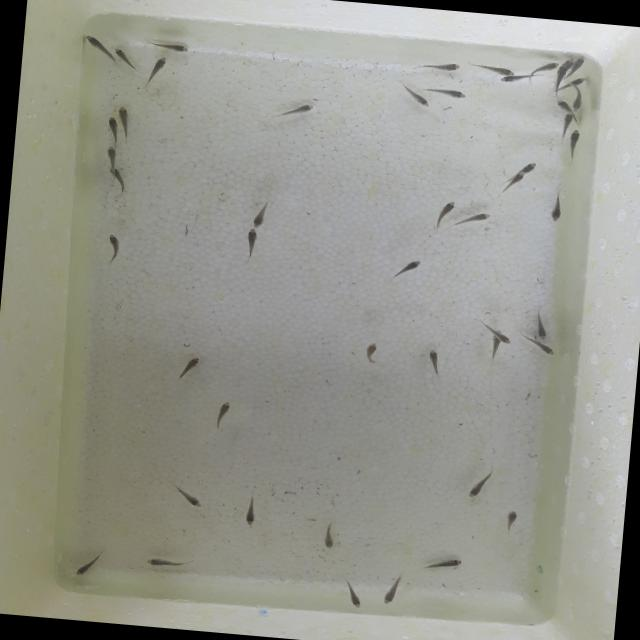fingerling: (80, 32, 114, 56), (430, 84, 472, 102), (418, 58, 461, 74), (110, 46, 138, 70), (475, 62, 517, 78), (404, 88, 434, 110), (392, 259, 422, 281), (565, 126, 584, 158), (146, 558, 189, 572), (466, 475, 491, 499), (504, 168, 529, 192), (76, 556, 106, 576), (456, 210, 491, 227), (105, 232, 124, 262), (529, 339, 559, 358), (426, 556, 461, 572), (174, 489, 202, 509), (180, 352, 202, 377), (152, 40, 192, 53), (346, 587, 367, 611), (516, 157, 542, 176), (147, 54, 167, 78), (501, 72, 535, 86), (108, 166, 130, 187), (422, 346, 443, 368), (438, 200, 458, 223), (116, 106, 131, 136), (280, 103, 312, 117), (215, 398, 232, 424), (532, 61, 557, 78), (486, 331, 514, 346), (552, 64, 567, 92), (104, 116, 121, 140), (382, 580, 398, 604), (254, 202, 270, 226), (245, 496, 258, 524), (560, 112, 574, 138), (489, 331, 506, 352), (323, 524, 337, 548), (244, 228, 258, 252), (536, 319, 550, 342), (364, 344, 380, 364), (504, 510, 520, 530), (549, 198, 563, 220), (571, 54, 587, 73), (105, 142, 120, 161), (566, 76, 594, 86), (570, 92, 583, 111), (555, 100, 572, 114)
